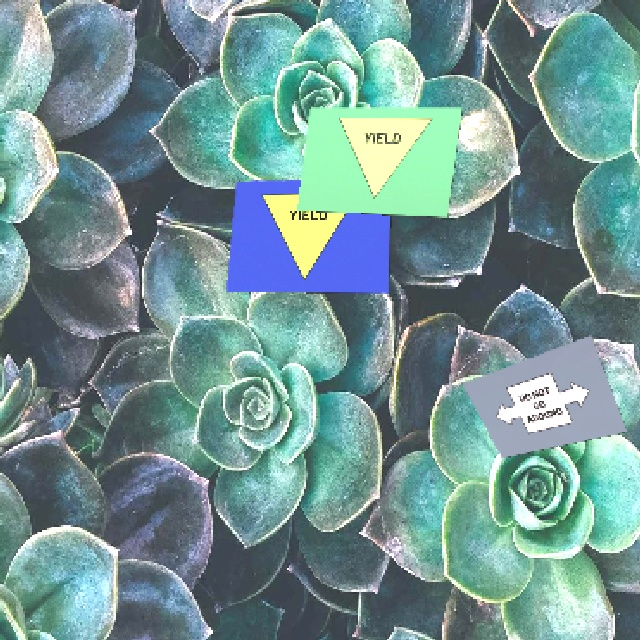DO_NOT_GO_AROUND: (481, 361, 599, 442)
YIELD: (253, 191, 357, 280), (327, 112, 431, 200)
